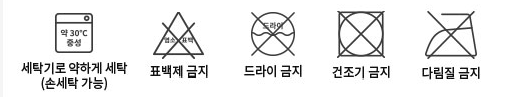KR_no_chlorine_bleach: (148, 10, 208, 62)
KR_no_dry_clean: (248, 7, 298, 58)
KR_no_iron: (420, 8, 482, 64)
KR_no_tumble_dry: (334, 7, 388, 61)
KR_wash_warm_30_neutral: (50, 10, 97, 58)
